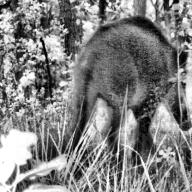boar: (76, 8, 192, 164)
